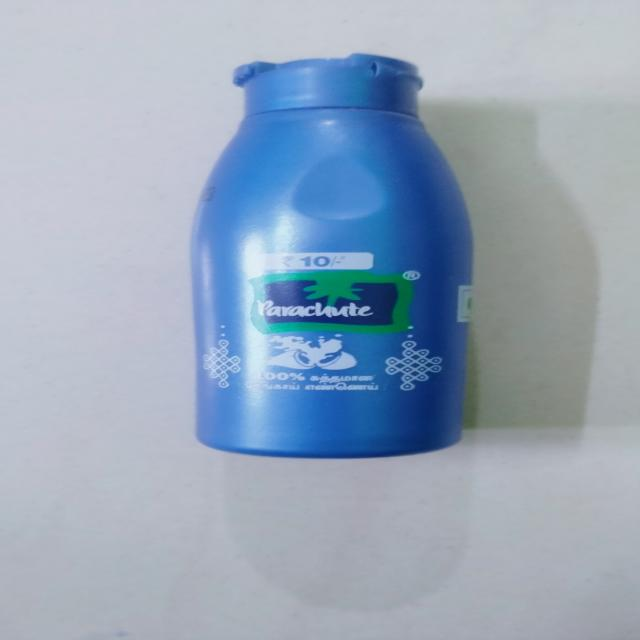oil: (199, 38, 477, 470)
